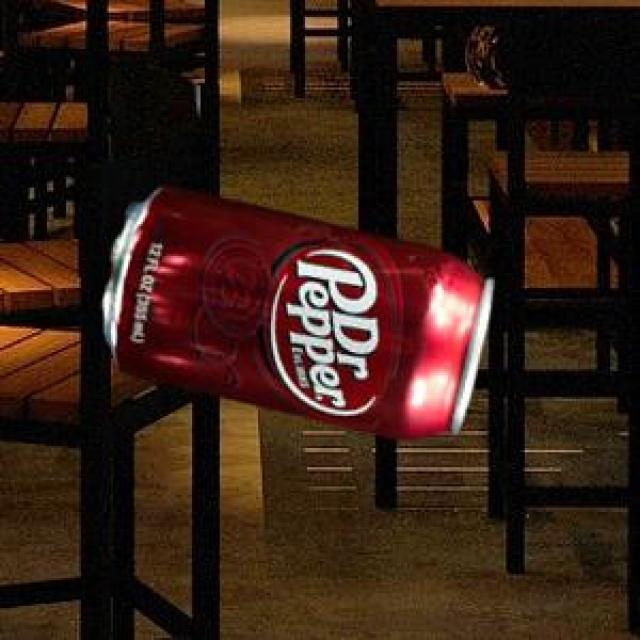Can: (99, 182, 489, 436)
